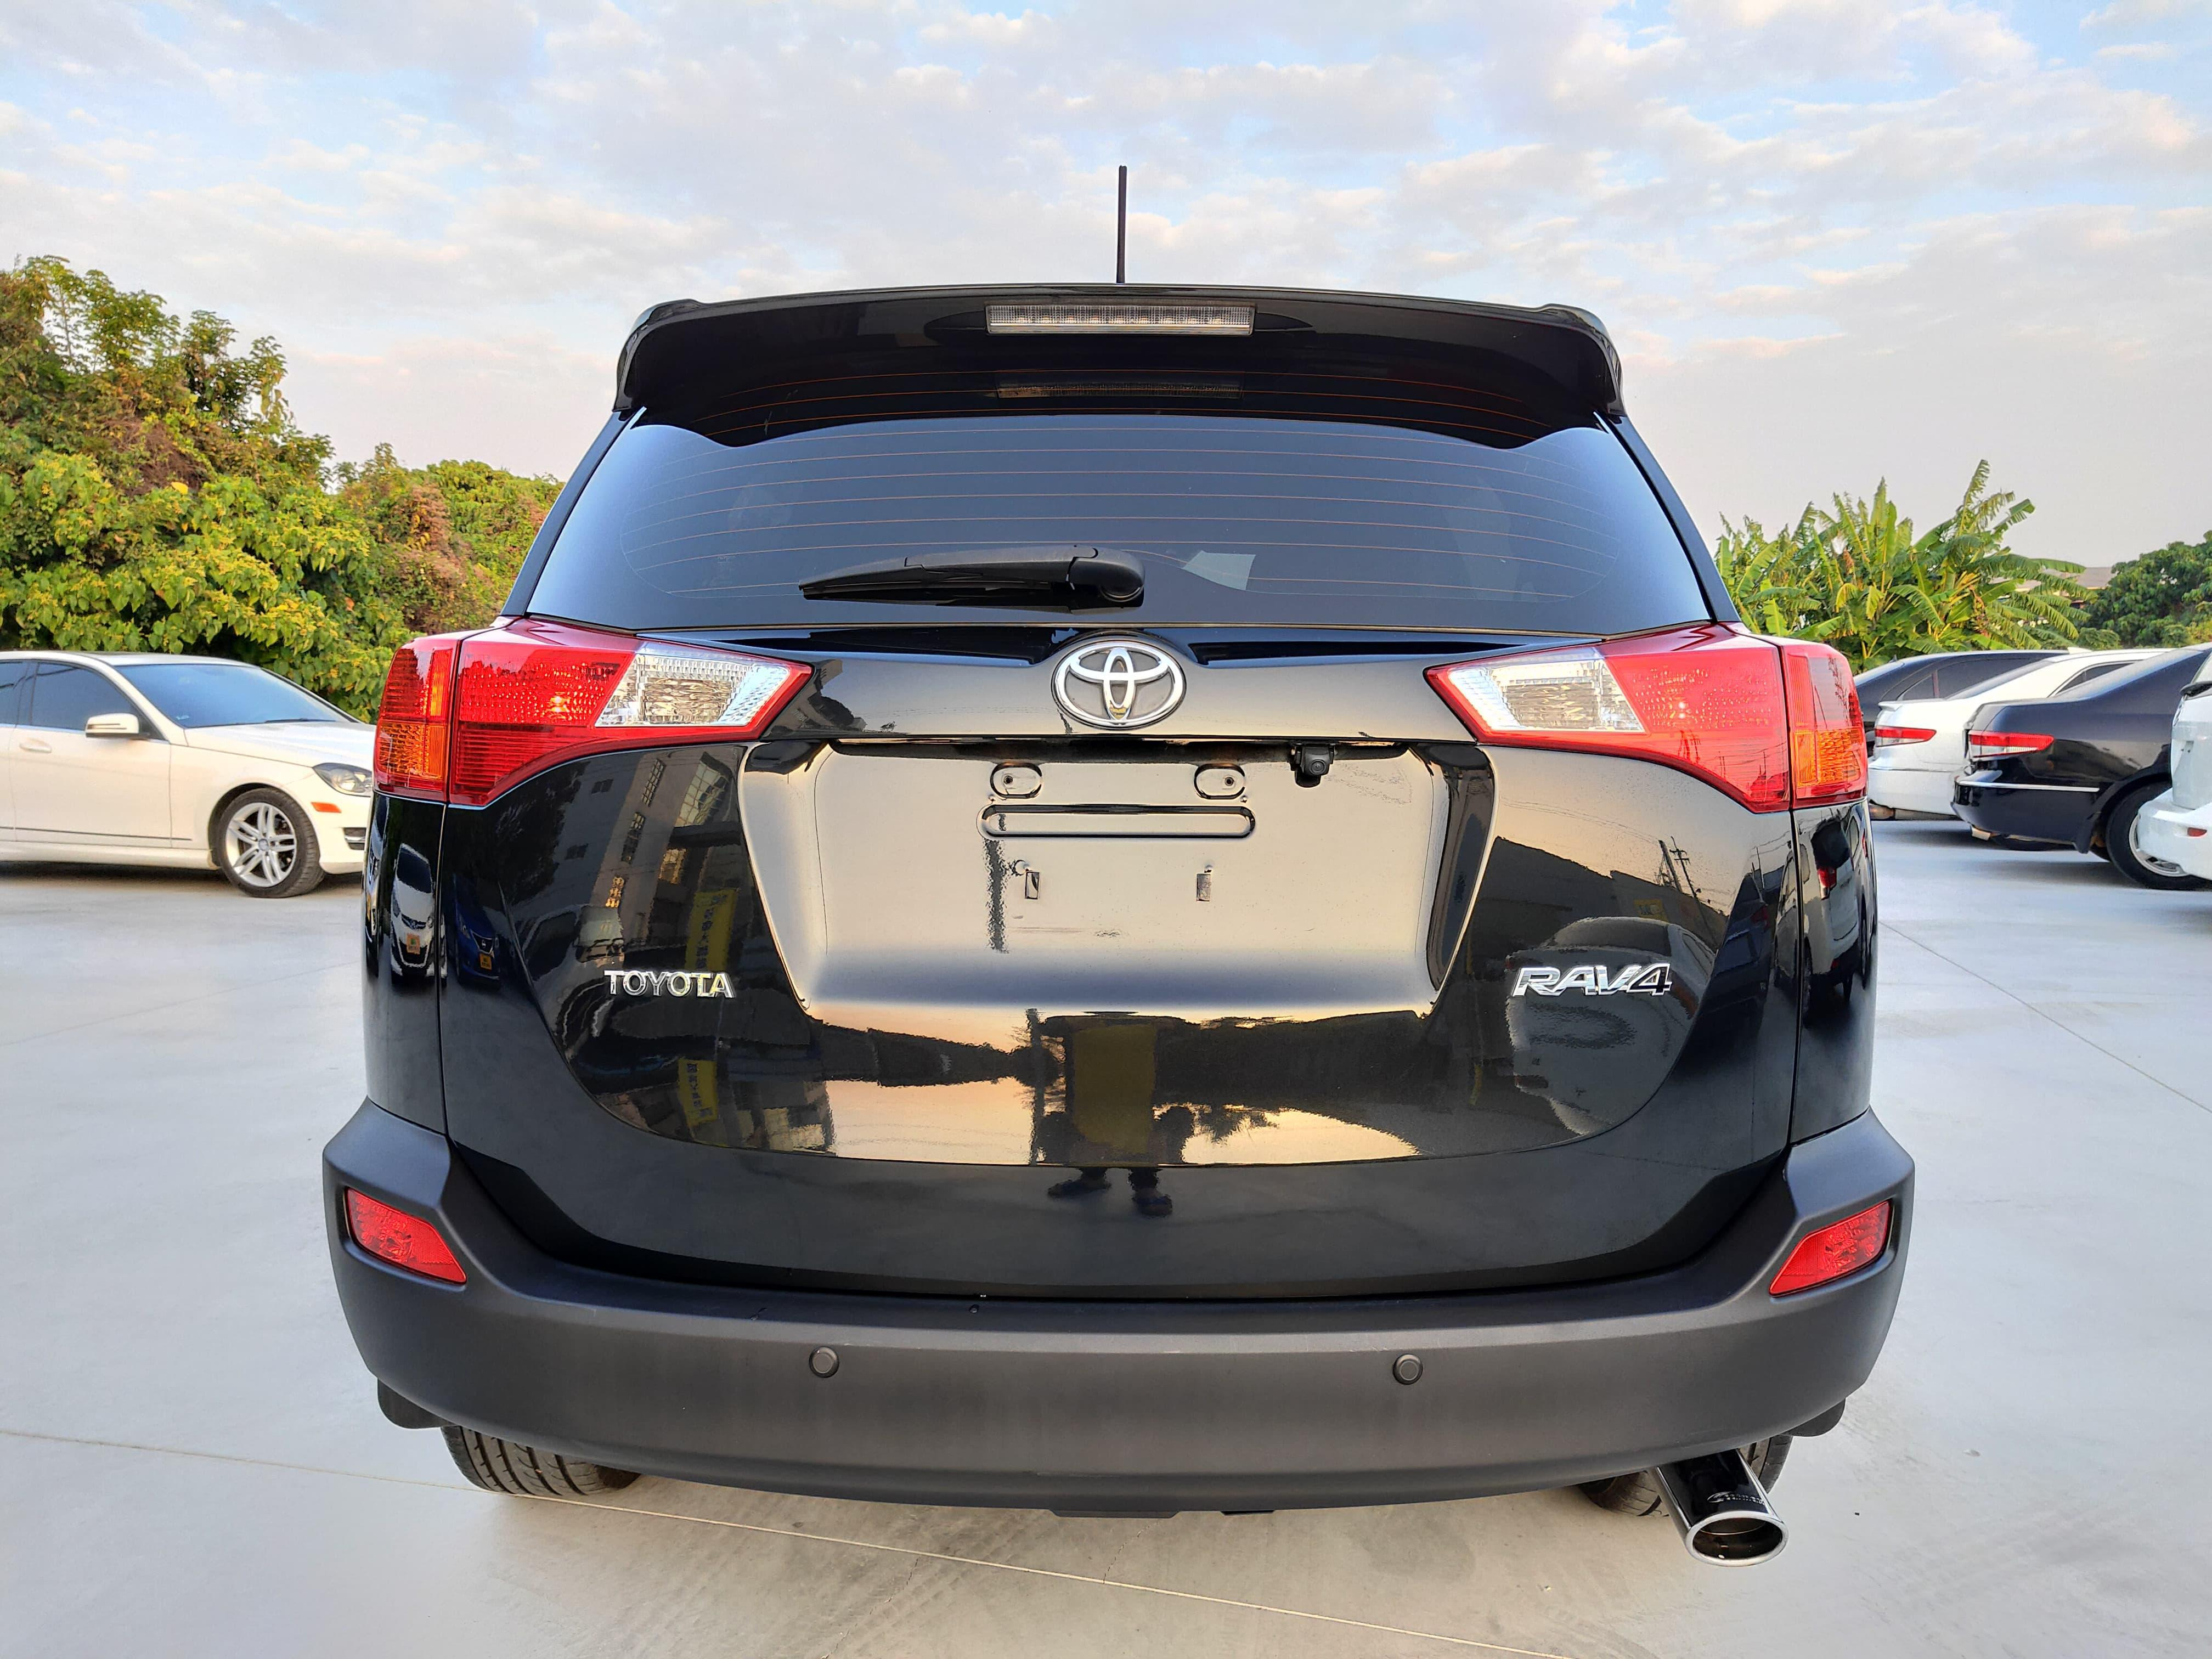toyota_rav4: (364, 288, 1874, 1455)
